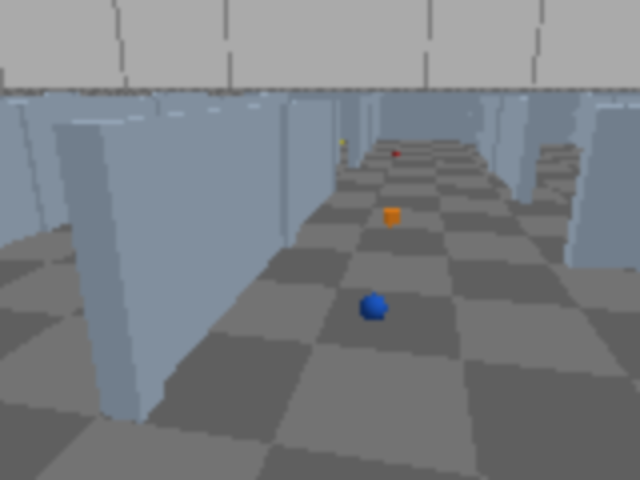puck: (356, 288, 392, 328), (384, 209, 402, 226)
